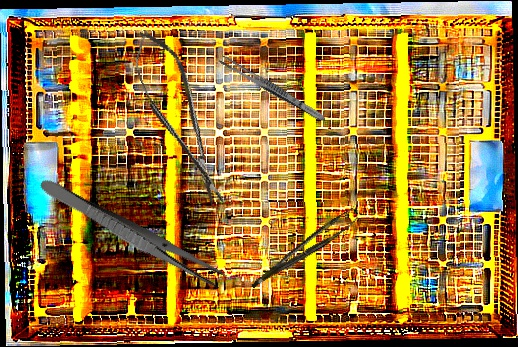Dressing Forceps: (35, 175, 229, 293), (216, 53, 329, 125)
Micro Scissor: (124, 22, 235, 217)
Tissue Forceps: (243, 207, 363, 289)
